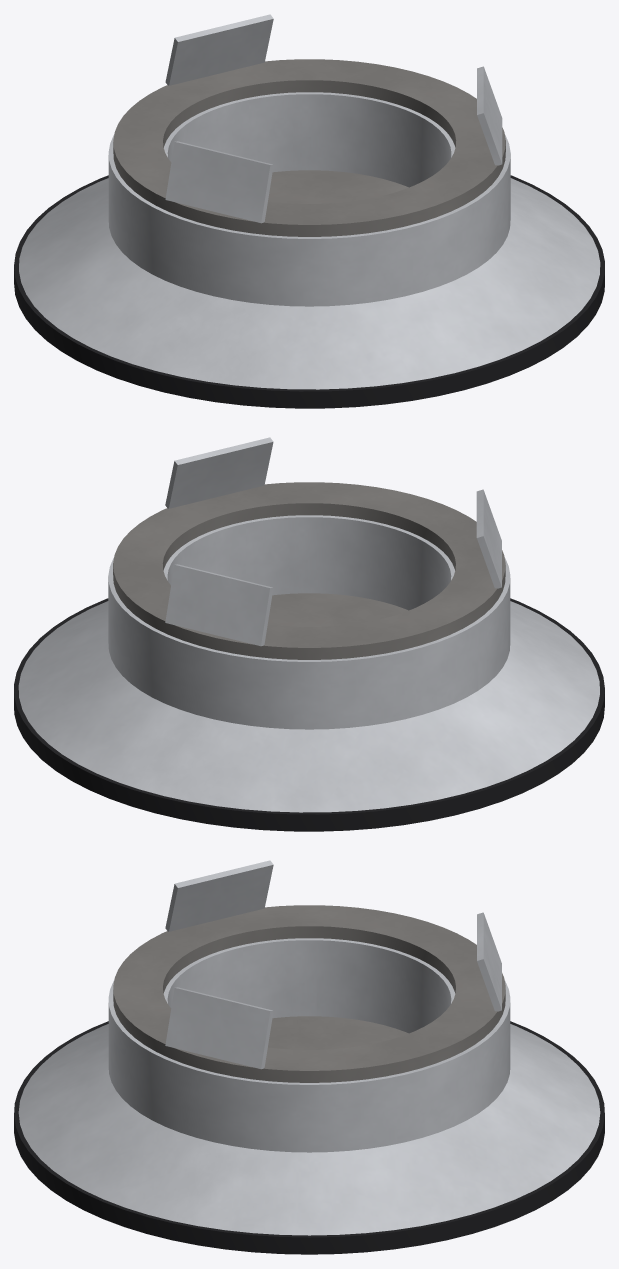
File: station05_docking_port_m.glb
3 renders of one model, top to bottom at view 1: azimuth 30°, elevation 25°; view 2: azimuth 150°, elevation 25°; view 3: azimuth 270°, elevation 25°, orthographic.
Parts seen in each view (by area): view 1: port_body, capture_ring, base_flange, guide_petals, hatch; view 2: port_body, capture_ring, base_flange, guide_petals, hatch; view 3: port_body, capture_ring, base_flange, guide_petals, hatch.
Part boxes in pixels (x1,y1,x2,y2): port_body: (19, 92, 600, 389); capture_ring: (113, 59, 505, 236); base_flange: (14, 175, 604, 408); guide_petals: (165, 14, 502, 223); hatch: (268, 170, 408, 203); port_body: (18, 515, 599, 812); capture_ring: (113, 482, 505, 659); base_flange: (14, 598, 604, 831); guide_petals: (165, 437, 501, 646); hatch: (267, 593, 408, 626); port_body: (18, 938, 600, 1235); capture_ring: (113, 905, 505, 1082); base_flange: (14, 1021, 604, 1254); guide_petals: (165, 860, 501, 1069); hatch: (268, 1016, 408, 1049).
Size of the model in its own units: 2.5 by 0.9053 by 2.5.
3 materials, 2 textured.
